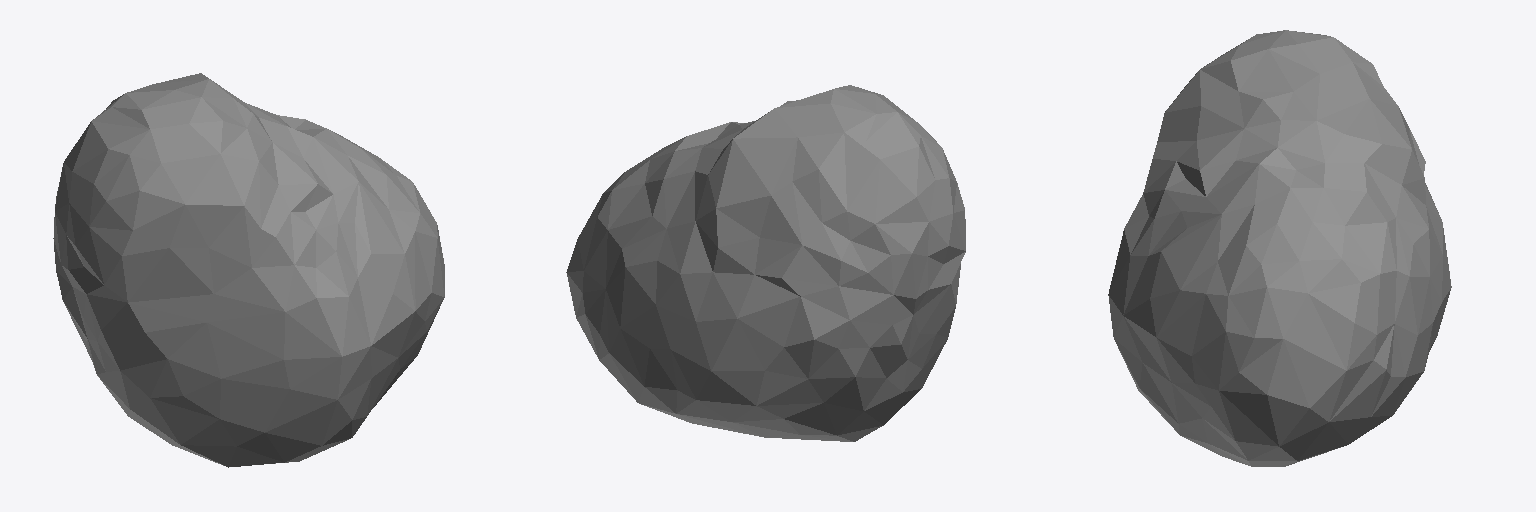
The model's file is stone.obj.
3 views of the same model, side by side, from view 1: azimuth 30°, elevation 25°; view 2: azimuth 150°, elevation 25°; view 3: azimuth 270°, elevation 25° (orthographic).
Parts seen in each view (by area): view 1: rock lp; view 2: rock lp; view 3: rock lp.
Boxes of the visible parts, x1,y1,x2,y2 form: rock lp: [53, 73, 444, 467]; rock lp: [566, 85, 965, 441]; rock lp: [1108, 30, 1451, 466].
Size of the model in its own units: 1.02 by 0.9606 by 0.8411.